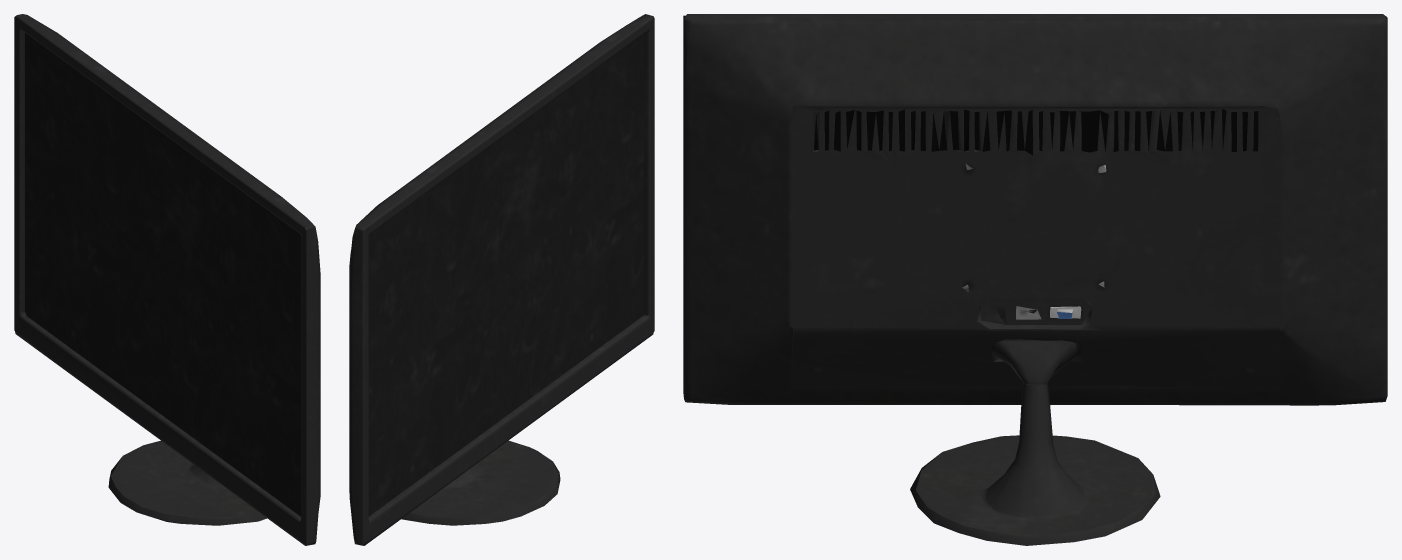
File: SM_Set_Monitor03.fbx
3 views of the same model, side by side, from view 1: azimuth 30°, elevation 25°; view 2: azimuth 150°, elevation 25°; view 3: azimuth 270°, elevation 25° (orthographic). The views are drawn at different scales.
Visible parts, largest first — view 1: SM_Set_Monitor03_LOD0; view 2: SM_Set_Monitor03_LOD0; view 3: SM_Set_Monitor03_LOD0.
Part boxes in pixels (x1,y1,x2,y2): SM_Set_Monitor03_LOD0: (14,14,320,545); SM_Set_Monitor03_LOD0: (349,14,654,545); SM_Set_Monitor03_LOD0: (683,14,1387,545).
Size of the model in its own units: 23.48 by 66.79 by 47.11.
